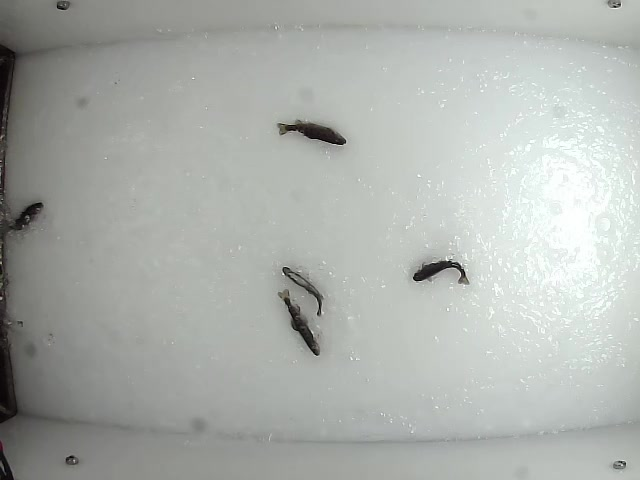fish: (275, 286, 322, 358), (280, 264, 326, 319), (277, 117, 349, 149), (411, 256, 470, 287), (1, 201, 44, 233)
